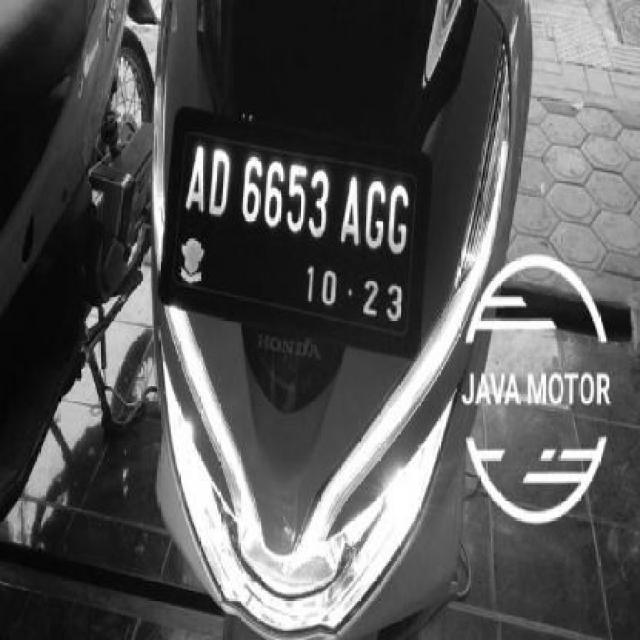3: (303, 166, 335, 251)
5: (279, 164, 308, 239)
6: (238, 152, 265, 231), (262, 159, 287, 232)
A: (335, 174, 366, 262), (180, 141, 213, 216)
D: (204, 145, 239, 222)
G: (386, 174, 415, 263), (361, 173, 386, 262)
